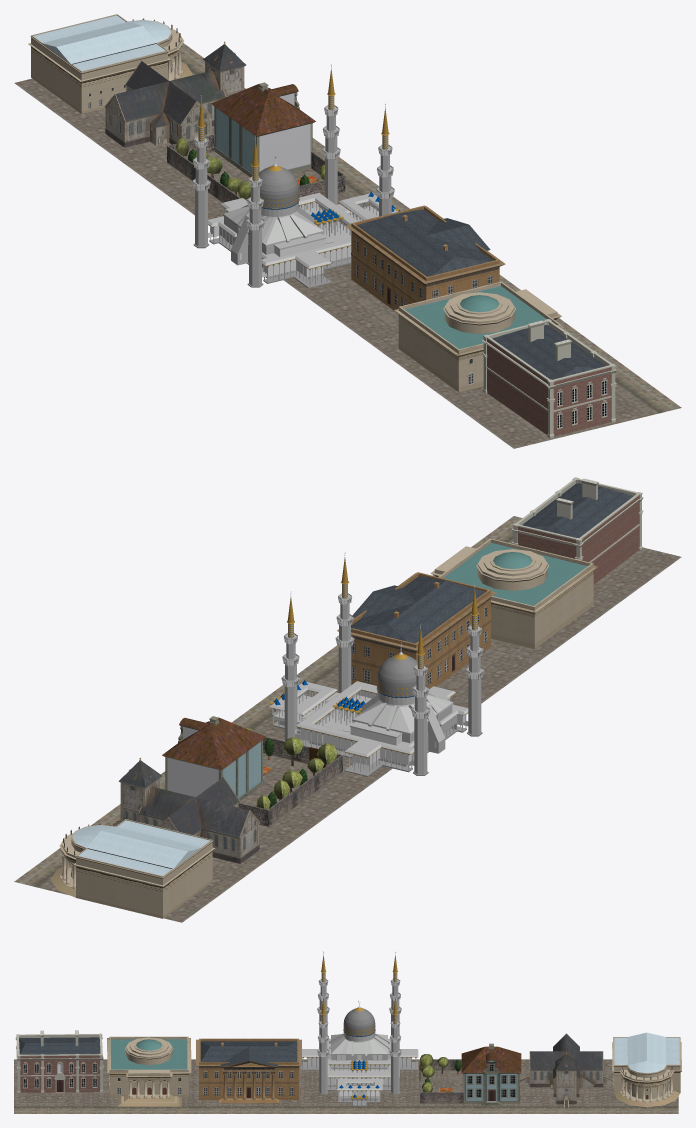
The model's file is yeni çağ yol kenarı2.fbx.
The picture shows the model from 3 angles, top to bottom: view 1: azimuth 30°, elevation 25°; view 2: azimuth 150°, elevation 25°; view 3: azimuth 270°, elevation 25°; orthographic projection. The views are drawn at different scales.
Parts seen in each view (by area): view 1: Object_3.002, Mesh_9.009, Mesh_9.004, Mesh_9.008, Mesh_9.007, Mesh_9.006, Hovedbygg Domkirken, Cube.002, Cube.000, Cube.012, Domkirken tårn mm, Cube.011 (+2 smaller); view 2: Object_3.002, Mesh_9.007, Mesh_9.004, Mesh_9.008, Mesh_9.006, Mesh_9.009, Cube.002, Hovedbygg Domkirken, Cube.000, Cube.012, Domkirken tårn mm, Cube.010 (+3 smaller); view 3: Object_3.002, Mesh_9.004, Mesh_9.006, Mesh_9.009, Mesh_9.007, Mesh_9.008, Cube.002, Hovedbygg Domkirken, Domkirken tårn mm, Cube.012, Cube.011, Cube.000 (+3 smaller).
Part boxes in pixels (x1=…): Object_3.002: x1=14, y1=43, x2=681, y2=448; Mesh_9.009: x1=482, y1=319, x2=616, y2=438; Mesh_9.004: x1=345, y1=205, x2=505, y2=313; Mesh_9.008: x1=167, y1=82, x2=345, y2=202; Mesh_9.007: x1=28, y1=14, x2=192, y2=113; Mesh_9.006: x1=394, y1=281, x2=565, y2=392; Hovedbygg Domkirken: x1=105, y1=61, x2=225, y2=147; Cube.002: x1=208, y1=193, x2=397, y2=288; Cube.000: x1=192, y1=97, x2=264, y2=287; Cube.012: x1=322, y1=66, x2=394, y2=216; Domkirken tårn mm: x1=104, y1=41, x2=246, y2=145; Cube.011: x1=258, y1=167, x2=299, y2=218; Object_3.002: x1=14, y1=516, x2=681, y2=922; Mesh_9.007: x1=51, y1=819, x2=215, y2=918; Mesh_9.004: x1=337, y1=572, x2=496, y2=688; Mesh_9.008: x1=162, y1=716, x2=342, y2=826; Mesh_9.006: x1=430, y1=538, x2=598, y2=648; Mesh_9.009: x1=511, y1=477, x2=643, y2=584; Cube.002: x1=269, y1=681, x2=468, y2=776; Hovedbygg Domkirken: x1=139, y1=777, x2=259, y2=863; Cube.000: x1=411, y1=586, x2=484, y2=775; Cube.012: x1=281, y1=555, x2=354, y2=741; Domkirken tårn mm: x1=113, y1=757, x2=260, y2=858; Cube.010: x1=295, y1=681, x2=468, y2=757; Object_3.002: x1=14, y1=1059, x2=678, y2=1113; Mesh_9.004: x1=196, y1=1038, x2=301, y2=1103; Mesh_9.006: x1=107, y1=1036, x2=191, y2=1106; Mesh_9.009: x1=15, y1=1030, x2=103, y2=1093; Mesh_9.007: x1=612, y1=1032, x2=681, y2=1107; Mesh_9.008: x1=419, y1=1043, x2=521, y2=1105; Cube.002: x1=300, y1=1033, x2=418, y2=1106; Hovedbygg Domkirken: x1=529, y1=1034, x2=603, y2=1097; Domkirken tårn mm: x1=519, y1=1033, x2=613, y2=1108; Cube.012: x1=317, y1=995, x2=401, y2=1094; Cube.011: x1=343, y1=1008, x2=375, y2=1042; Cube.000: x1=317, y1=953, x2=401, y2=1035.
Size of the model in its own units: 12999 by 9332 by 56310.
